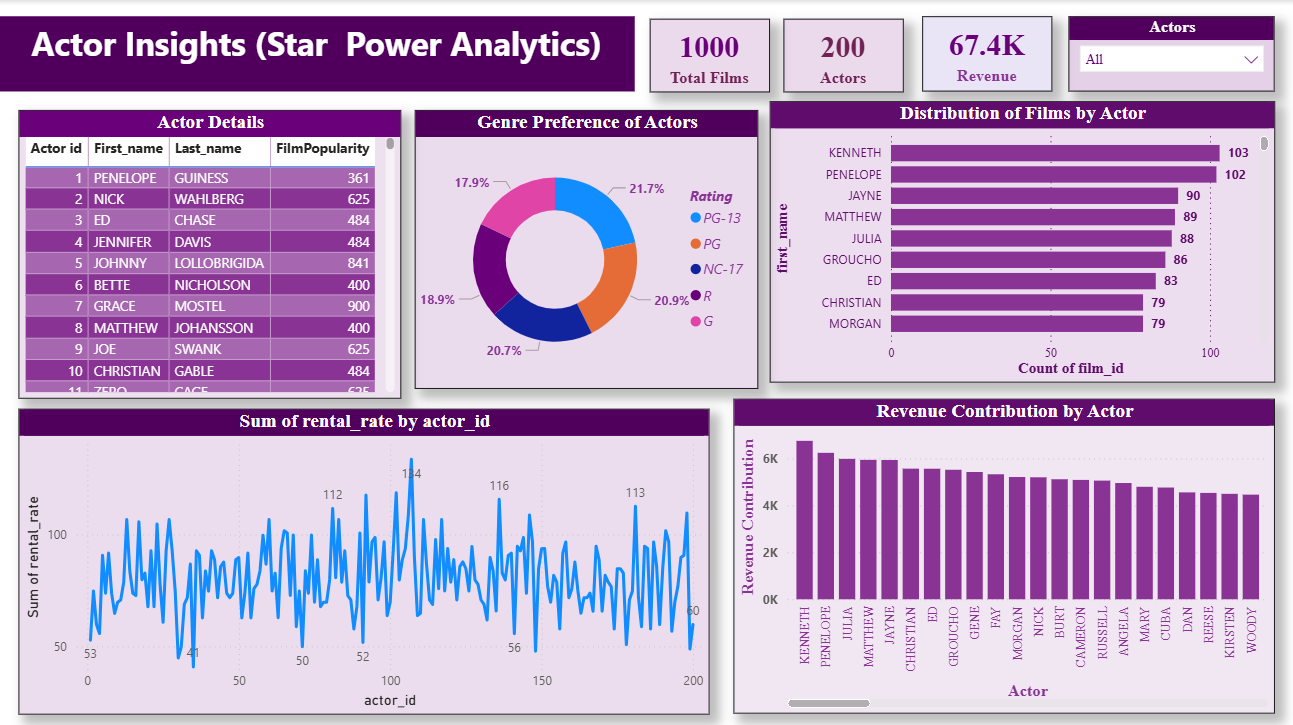

Layout of this report page (visuals, bound fields, positions):
{"tool":"powerbi","page":{"name":"Actor Analysis","canvas":[1280,720],"ordinal":6},"visuals":[{"type":"card","fields":{"Values":["CountNonNull(film.film_id)"]},"box":[639.5,18.3,117.4,72.1],"z":0},{"type":"card","fields":{"Values":["CountNonNull(actor.actor_id)"]},"box":[770.4,18.3,117.4,72.1],"z":1000},{"type":"card","fields":{"Values":["payment.Revenue"]},"box":[906.1,15.9,127.2,73.4],"z":2000},{"type":"slicer","title":"Actors","fields":{"Values":["actor.first_name"]},"box":[1049.2,15.9,201.8,73.4],"z":3000},{"type":"textbox","box":[2.4,15.9,622.4,73.4],"z":4000},{"type":"tableEx","title":"Actor Details","fields":{"Values":["actor.actor_id","actor.first_name","actor.last_name","actor.FilmPopularity"]},"box":[22,107.6,374.2,282.5],"z":5000},{"type":"donutChart","title":"Genre Preference of Actors","fields":{"Category":["film.rating"],"Y":["CountNonNull(film_actor.actor_id)"]},"box":[409.6,107.6,336.3,272.7],"z":6000},{"type":"barChart","title":"Distribution of Films by Actor","fields":{"Category":["actor.first_name"],"Y":["CountNonNull(film_actor.film_id)"]},"box":[756.9,99,494,275.1],"z":7000},{"type":"lineChart","fields":{"Category":["actor.actor_id"],"Y":["Sum(film.rental_rate)"]},"box":[22,399.9,676.2,299.6],"z":8000},{"type":"clusteredColumnChart","fields":{"Category":["actor.first_name"],"Y":["payment.Revenue"]},"box":[721.5,390.1,529.5,308.2],"z":9000}]}

Visuals, with their boxes in screenshot pixels (x1, y1, x2, y2), scaled from the page's 1280x720 canvas onto the 1293x725 screenshot:
card - CountNonNull(film.film_id): bbox(646, 18, 765, 91)
card - CountNonNull(actor.actor_id): bbox(778, 18, 897, 91)
card - payment.Revenue: bbox(915, 16, 1044, 90)
"Actors" slicer: bbox(1060, 16, 1264, 90)
textbox: bbox(2, 16, 631, 90)
"Actor Details" tableEx: bbox(22, 108, 400, 393)
"Genre Preference of Actors" donutChart: bbox(414, 108, 753, 383)
"Distribution of Films by Actor" barChart: bbox(765, 100, 1264, 377)
lineChart - actor.actor_id x Sum(film.rental_rate): bbox(22, 403, 705, 704)
clusteredColumnChart - actor.first_name x payment.Revenue: bbox(729, 393, 1264, 703)
